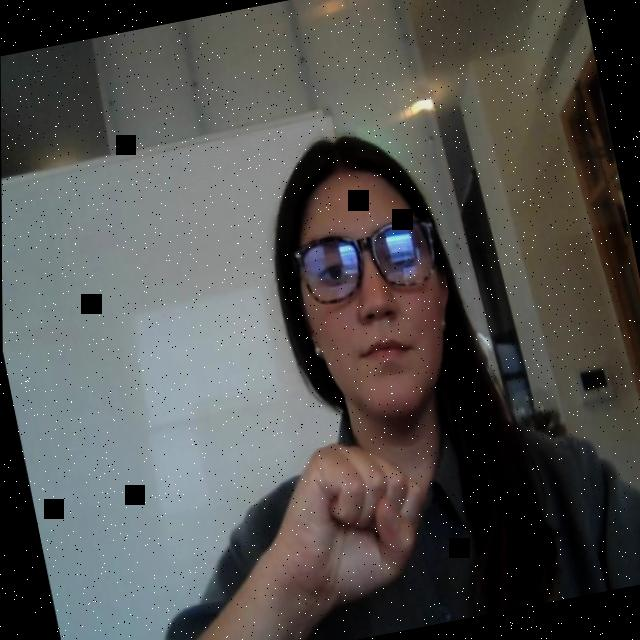Rock: (238, 411, 450, 640)
